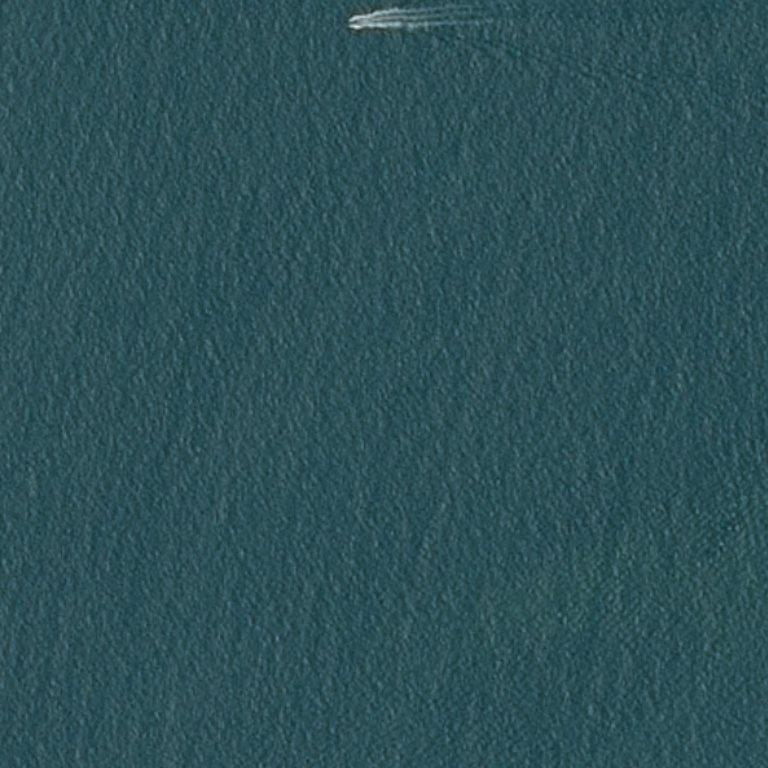ship: (349, 14, 377, 30), (366, 17, 371, 21), (367, 22, 370, 25), (352, 22, 354, 24)
